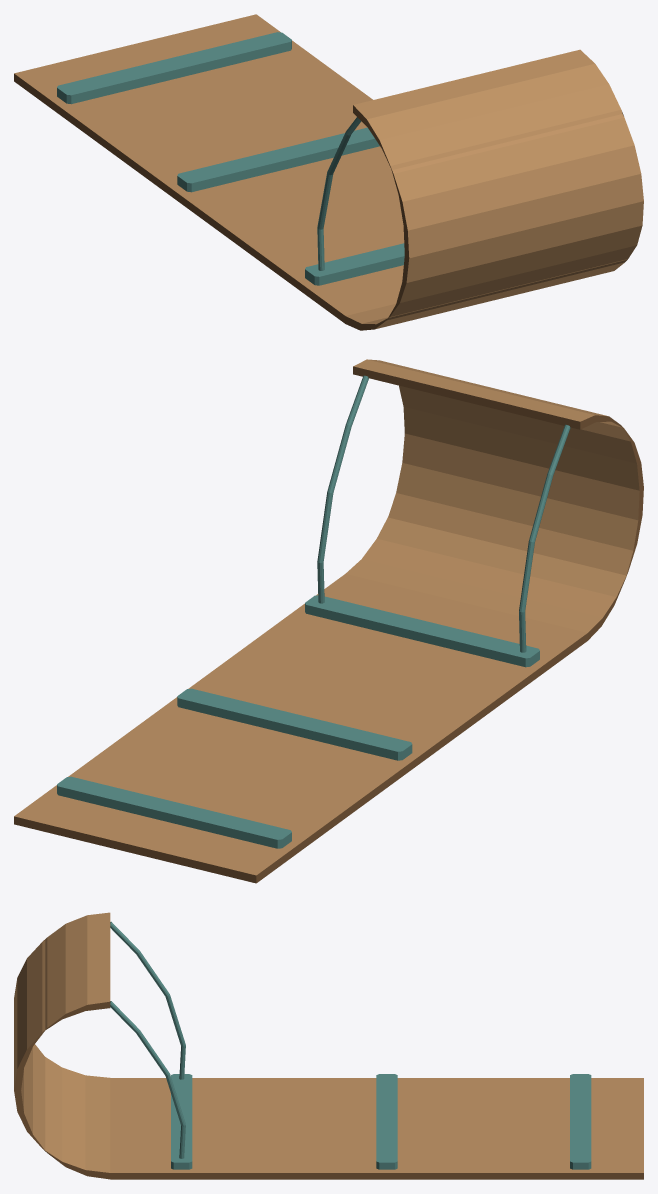
3 views of the same model, one above another, from view 1: azimuth 30°, elevation 25°; view 2: azimuth 150°, elevation 25°; view 3: azimuth 270°, elevation 25° (orthographic). The views are drawn at different scales.
Parts seen in each view (by area): view 1: WholeReturningCurledSlidingDeck, WholeTransverseDeckBatten_3, WholeTransverseDeckBatten_2, WholeTransverseDeckBatten_1, WholeFixedSideCord_Left; view 2: WholeReturningCurledSlidingDeck, WholeTransverseDeckBatten_2, WholeTransverseDeckBatten_3, WholeTransverseDeckBatten_1, WholeFixedSideCord_Left, WholeFixedSideCord_Right; view 3: WholeReturningCurledSlidingDeck, WholeTransverseDeckBatten_2, WholeTransverseDeckBatten_3, WholeTransverseDeckBatten_1, WholeFixedSideCord_Right, WholeFixedSideCord_Left.
Boxes of the visible parts, box(x1,y1,x2,y2) form: WholeReturningCurledSlidingDeck: box(14, 14, 643, 330); WholeTransverseDeckBatten_3: box(57, 32, 291, 104); WholeTransverseDeckBatten_2: box(177, 127, 379, 192); WholeTransverseDeckBatten_1: box(305, 243, 404, 285); WholeFixedSideCord_Left: box(317, 117, 361, 270); WholeReturningCurledSlidingDeck: box(14, 359, 643, 883); WholeTransverseDeckBatten_2: box(177, 688, 412, 760); WholeTransverseDeckBatten_3: box(57, 776, 291, 848); WholeTransverseDeckBatten_1: box(305, 595, 539, 667); WholeFixedSideCord_Left: box(519, 424, 570, 652); WholeFixedSideCord_Right: box(317, 375, 368, 603); WholeReturningCurledSlidingDeck: box(14, 912, 643, 1179); WholeTransverseDeckBatten_2: box(376, 1074, 397, 1169); WholeTransverseDeckBatten_3: box(570, 1074, 591, 1169); WholeTransverseDeckBatten_1: box(171, 1074, 192, 1169); WholeFixedSideCord_Right: box(110, 1001, 185, 1158); WholeFixedSideCord_Left: box(110, 921, 185, 1079).
Bounding box in the file's own units: 0.57 × 0.488 × 1.59.
